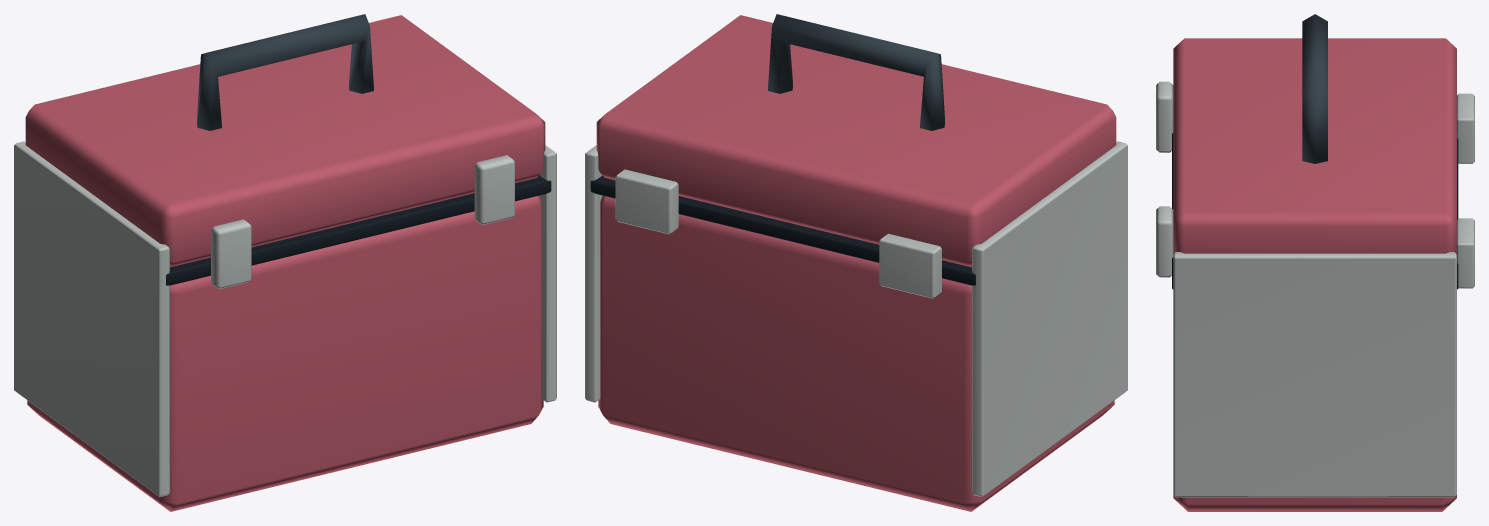
File: P087_makeup_case_rebuilt.glb
3 views of the same model, side by side, from view 1: azimuth 30°, elevation 25°; view 2: azimuth 150°, elevation 25°; view 3: azimuth 270°, elevation 25° (orthographic). The views are drawn at different scales.
Visible parts, largest first — view 1: pink, silver, shell, dark; view 2: pink, silver, shell, dark; view 3: silver, pink, shell, dark.
Boxes of the visible parts, x1=… form: pink: x1=25, y1=15, x2=545, y2=511; silver: x1=14, y1=141, x2=556, y2=496; shell: x1=196, y1=14, x2=373, y2=130; dark: x1=166, y1=175, x2=551, y2=285; pink: x1=596, y1=15, x2=1116, y2=511; silver: x1=585, y1=141, x2=1127, y2=496; shell: x1=768, y1=14, x2=945, y2=130; dark: x1=590, y1=175, x2=975, y2=285; silver: x1=1156, y1=81, x2=1474, y2=497; pink: x1=1173, y1=38, x2=1456, y2=511; shell: x1=1302, y1=14, x2=1327, y2=163; dark: x1=1172, y1=133, x2=1458, y2=289.
Bounding box in the file's own units: 0.3 × 0.2776 × 0.214.
